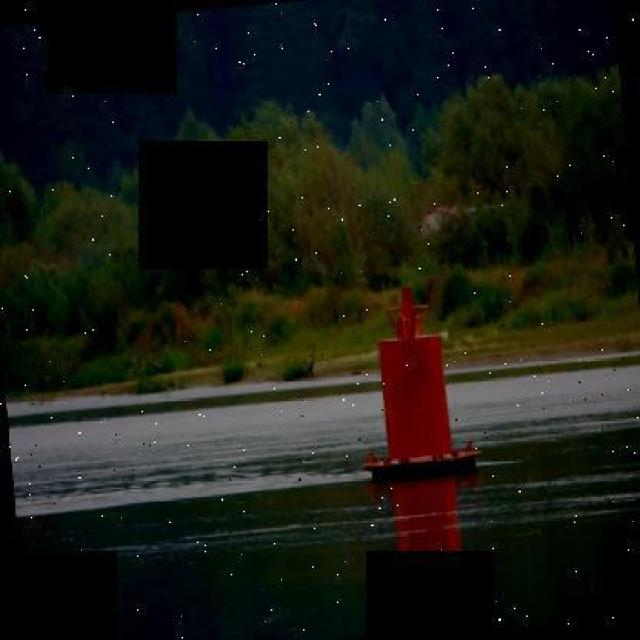Red Buoy: (372, 312, 465, 468)
